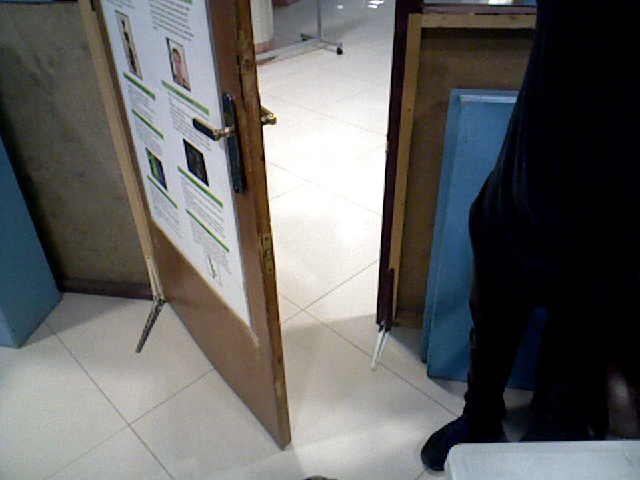door_handle: (195, 89, 251, 199)
